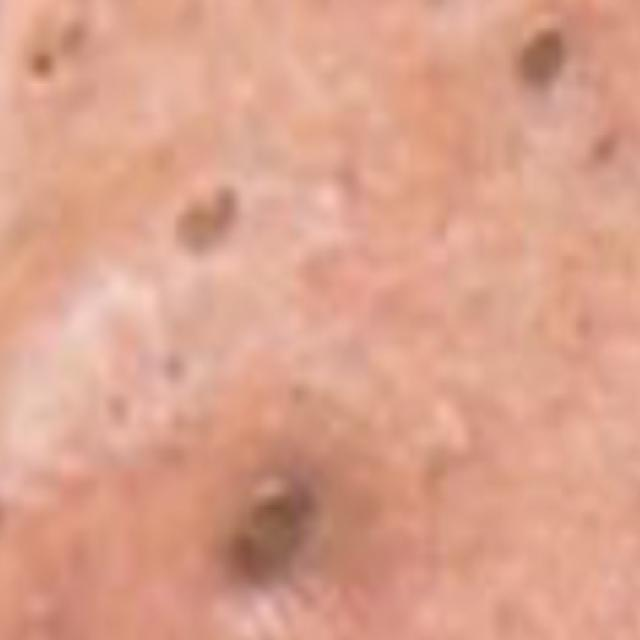blackhead: (218, 476, 307, 596), (174, 180, 240, 257), (514, 23, 566, 96), (57, 19, 88, 65), (100, 388, 133, 428), (158, 345, 185, 384), (26, 49, 54, 84), (586, 130, 612, 167)
